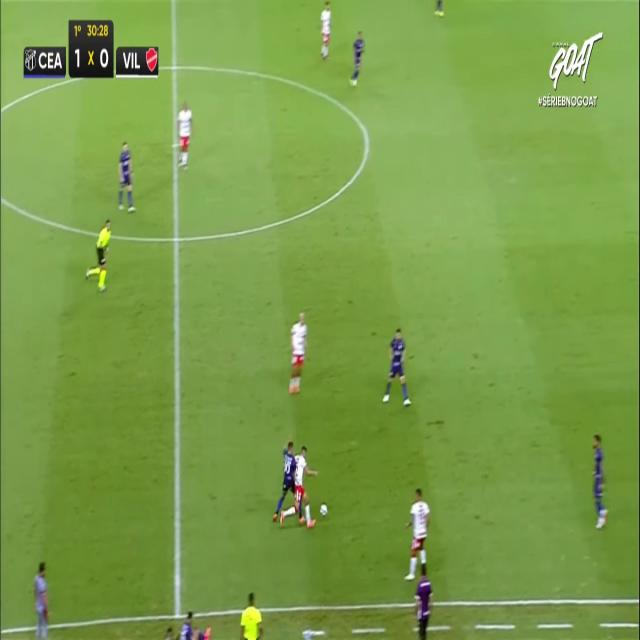ball: (317, 500, 330, 522)
player: (282, 439, 316, 533), (404, 487, 430, 581), (382, 327, 411, 406), (272, 438, 293, 524), (591, 433, 608, 528), (289, 311, 307, 393), (117, 141, 135, 213), (176, 100, 192, 168), (349, 30, 365, 87), (319, 0, 331, 60), (435, 0, 445, 23)
referee: (85, 219, 111, 292), (241, 591, 263, 640)
